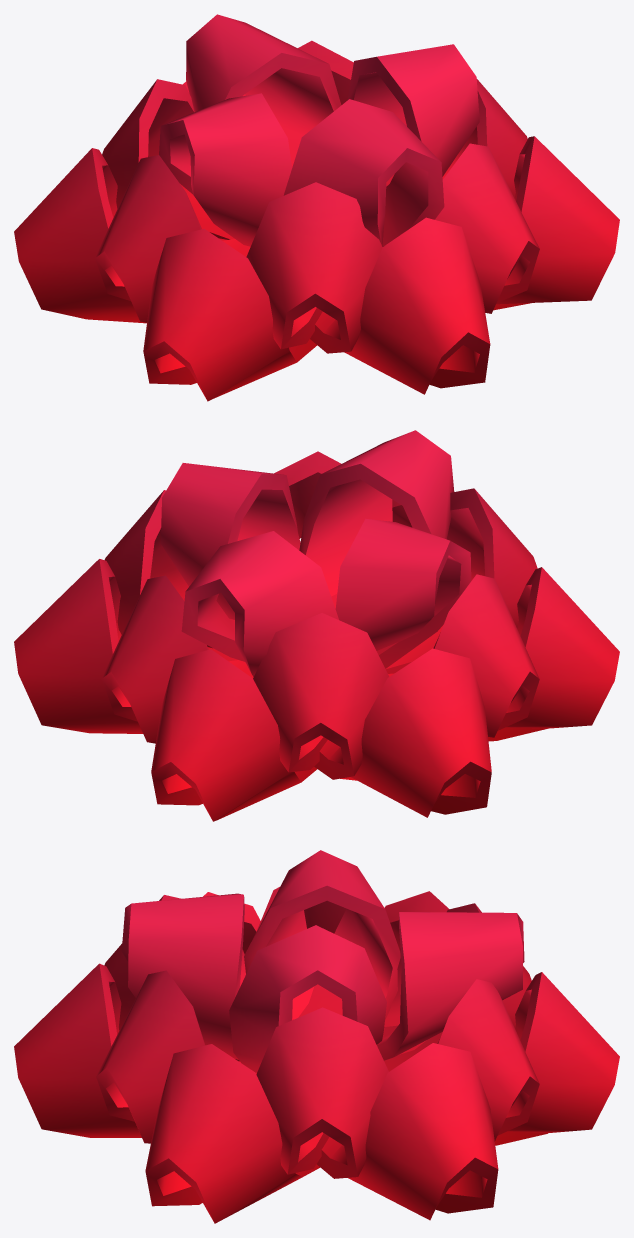
The model's file is bow_012.fbx.
3 renders of one model, top to bottom at view 1: azimuth 30°, elevation 25°; view 2: azimuth 150°, elevation 25°; view 3: azimuth 270°, elevation 25°, orthographic.
Visible parts, largest first — view 1: bow_012; view 2: bow_012; view 3: bow_012.
Boxes of the visible parts, box(x1,y1,x2,y2) form: bow_012: box(14, 14, 619, 401); bow_012: box(14, 430, 619, 821); bow_012: box(14, 850, 619, 1223).
Bounding box in the file's own units: 231 × 256 × 115.
